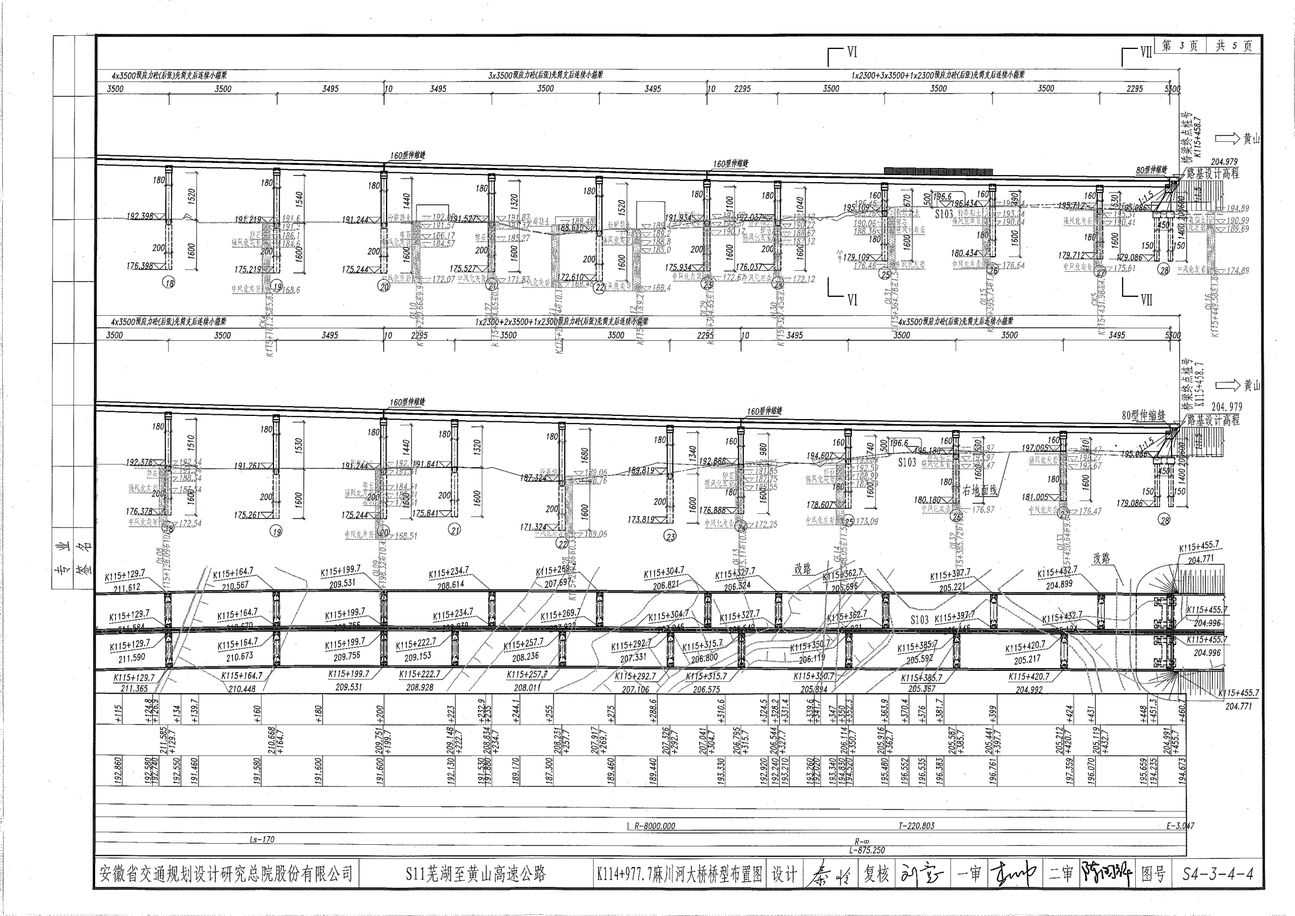A: (88, 33, 1253, 300), (64, 302, 1260, 546)
